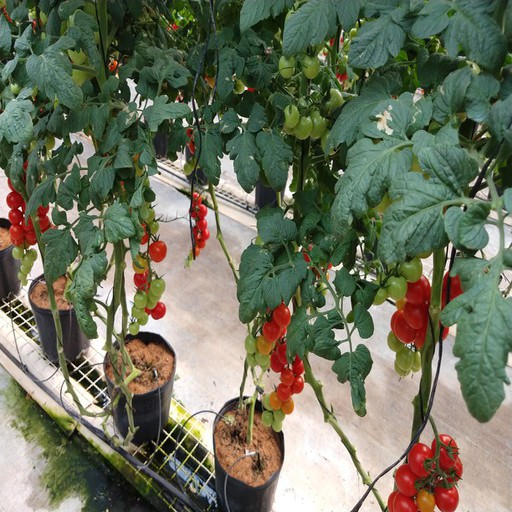green tomato bunch: (270, 49, 347, 136)
mixed tomato bunch: (130, 222, 166, 336), (245, 294, 289, 371)
red tomato bunch: (391, 270, 474, 348), (387, 434, 466, 512), (1, 154, 50, 246), (268, 336, 307, 411), (188, 191, 211, 264)
